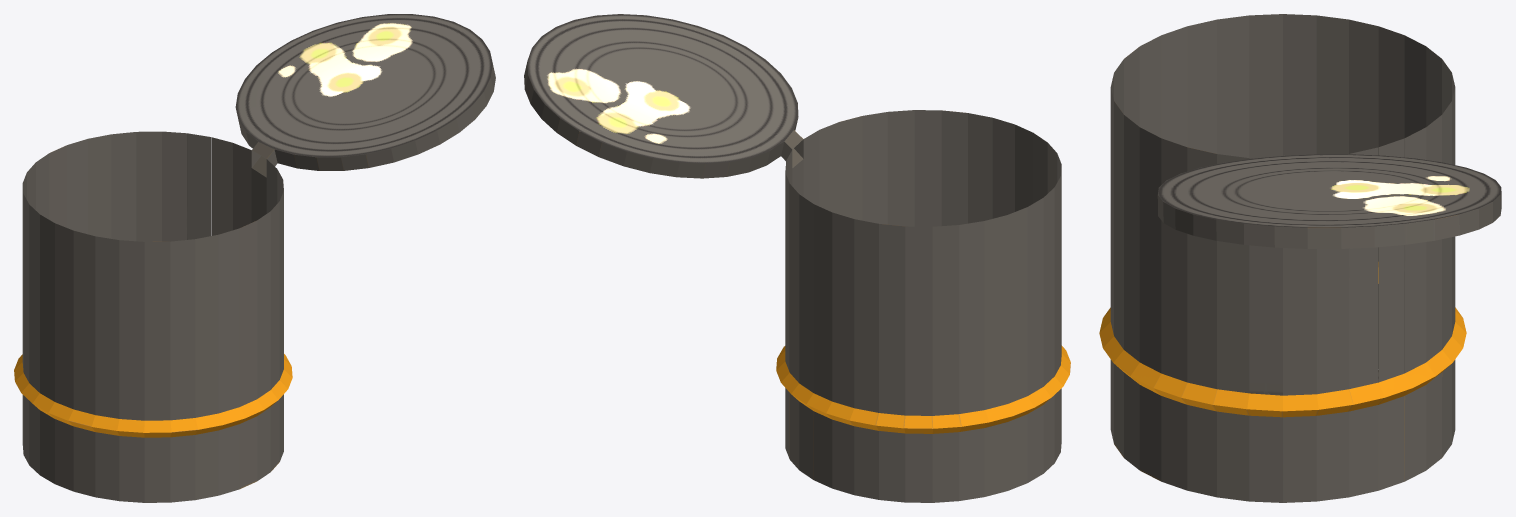
File: Soupcan.fbx
3 renders of one model, left to right at view 1: azimuth 30°, elevation 25°; view 2: azimuth 150°, elevation 25°; view 3: azimuth 270°, elevation 25°, orthographic. The views are drawn at different scales.
Parts seen in each view (by area): view 1: Cylinder; view 2: Cylinder; view 3: Cylinder.
Part boxes in pixels (x1,y1,x2,y2): Cylinder: (14,14,495,502); Cylinder: (524,14,1070,502); Cylinder: (1099,14,1501,502).
Size of the model in its own units: 408 by 269 by 234.
1 material, 1 textured.
